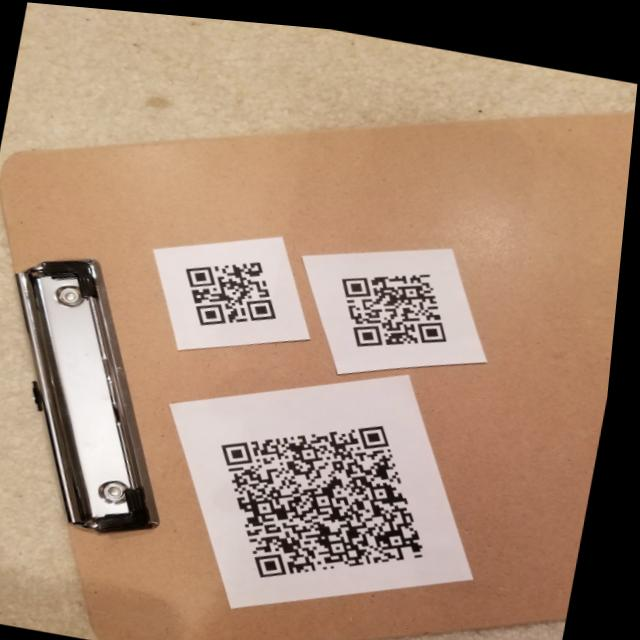QR_CODE: (191, 370, 476, 606), (323, 240, 485, 365), (165, 221, 302, 339)
